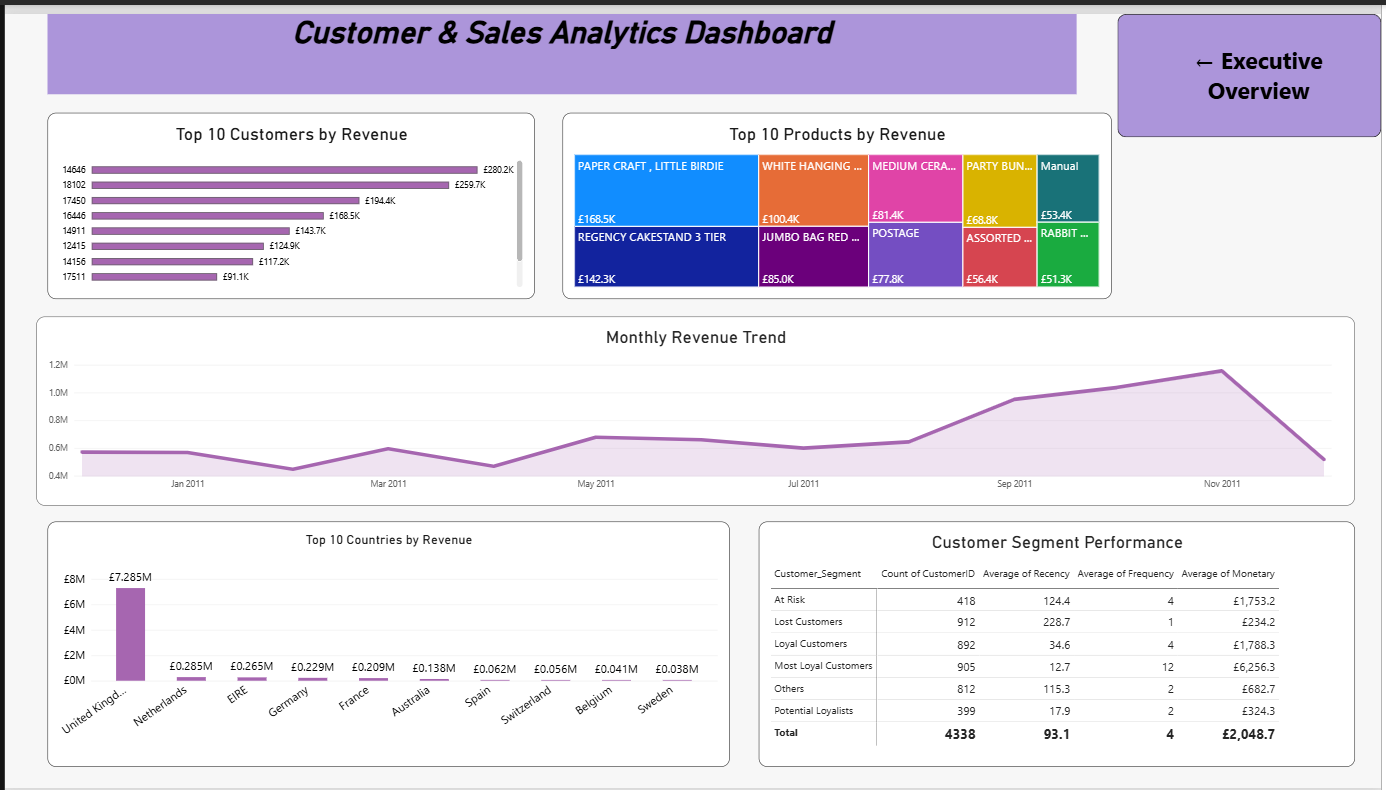

This screenshot's page, from the dashboard's own definition file:
{"tool":"powerbi","page":{"name":"Customer & Sales Insights","canvas":[1920,1080],"ordinal":1},"visuals":[{"type":"clusteredBarChart","title":"Top 10 Customers by Revenue","fields":{"Category":["Customer_RFM_Final.CustomerID"],"Y":["Sum(Customer_RFM_Final.Monetary)"]},"box":[60,138,680,260],"z":0},{"type":"lineChart","title":"Monthly Revenue Trend","fields":{"Category":["OnlineRetail.InvoiceDate.Variation.Date Hierarchy.Year","OnlineRetail.InvoiceDate.Variation.Date Hierarchy.Month"],"Y":["Sum(OnlineRetail.Revenue)"]},"box":[44,422,1840,264],"z":1},{"type":"treemap","title":"Top 10 Products by Revenue","fields":{"Group":["OnlineRetail.Description"],"Values":["Sum(OnlineRetail.Revenue)"]},"box":[778,138,766,260],"z":2},{"type":"clusteredColumnChart","title":"Top 10 Countries by Revenue","fields":{"Category":["OnlineRetail.Country"],"Y":["Sum(OnlineRetail.Revenue)"]},"box":[60,708,952,342],"z":3},{"type":"actionButton","box":[1552,0,368,172],"z":4},{"type":"pivotTable","title":"Customer Segment Performance","fields":{"Rows":["Customer_RFM_Final.Customer_Segment"],"Values":["CountNonNull(Customer_RFM_Final.CustomerID)","Avg(Customer_RFM_Final.Recency)","Avg(Customer_RFM_Final.Frequency)","Avg(Customer_RFM_Final.Monetary)"]},"box":[1052,708,832,342],"z":5},{"type":"textbox","title":"Customer & Sales Analytics Dashboard","box":[60,0,1436,112],"z":6}]}

Visuals, with their boxes in screenshot pixels (x1, y1, x2, y2), scaled from the page's 1920x1080 canvas onto the 1386x790 screenshot:
"Top 10 Customers by Revenue" clusteredBarChart: 43:101:534:291
"Monthly Revenue Trend" lineChart: 32:309:1360:502
"Top 10 Products by Revenue" treemap: 562:101:1115:291
"Top 10 Countries by Revenue" clusteredColumnChart: 43:518:731:768
actionButton: 1120:0:1385:126
"Customer Segment Performance" pivotTable: 759:518:1360:768
"Customer & Sales Analytics Dashboard" textbox: 43:0:1080:82
